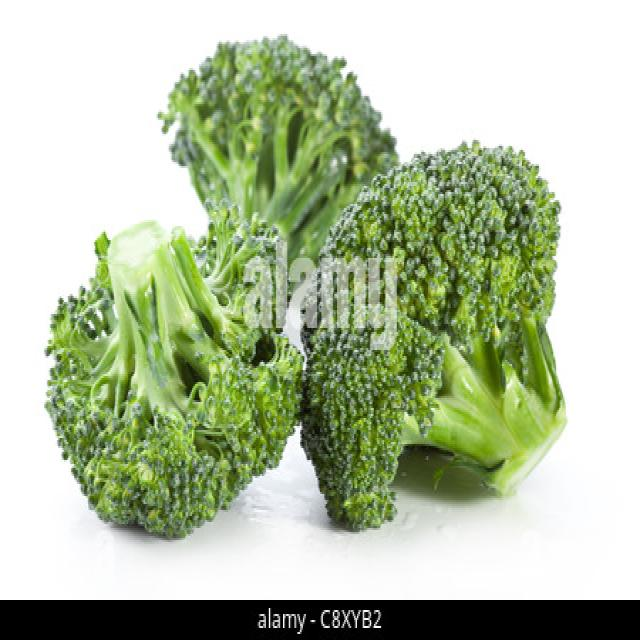broccoli: (42, 39, 566, 536), (46, 38, 566, 537)
